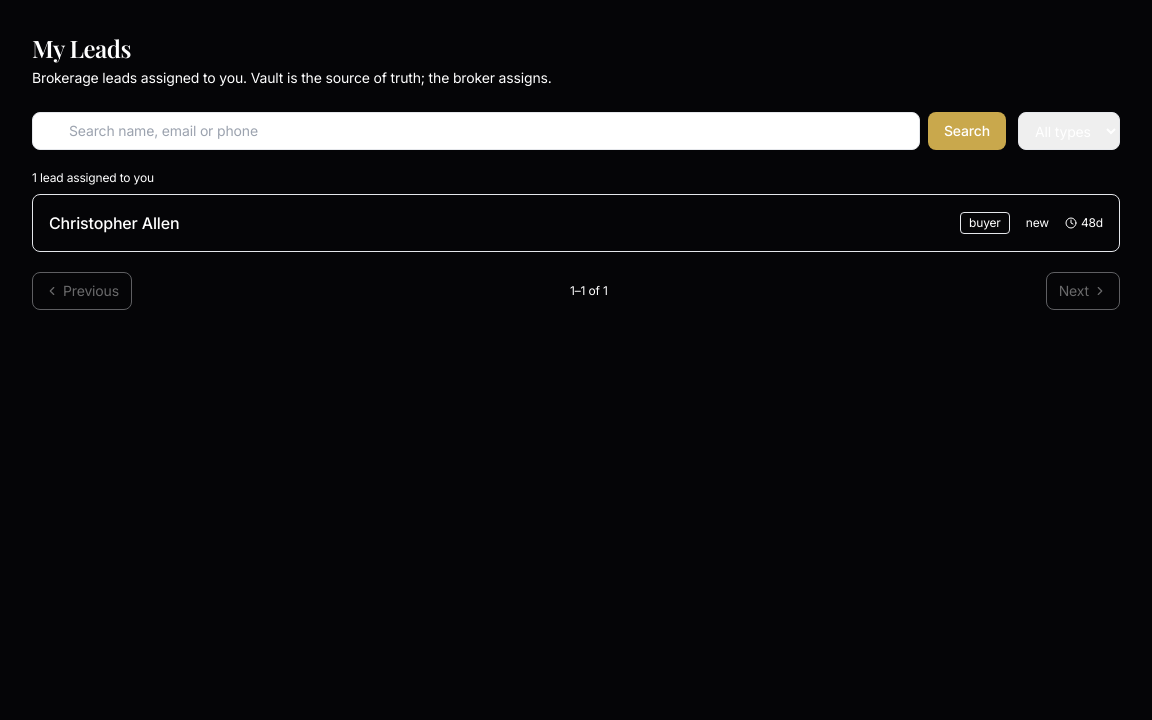
[P81A-U] the agent opens My Leads › [P81A-U5] opening a lead shows contact details and follow-up history
Step 1. Click the text "Christopher Allen" → (114, 223), box 49,213 -> 179,233
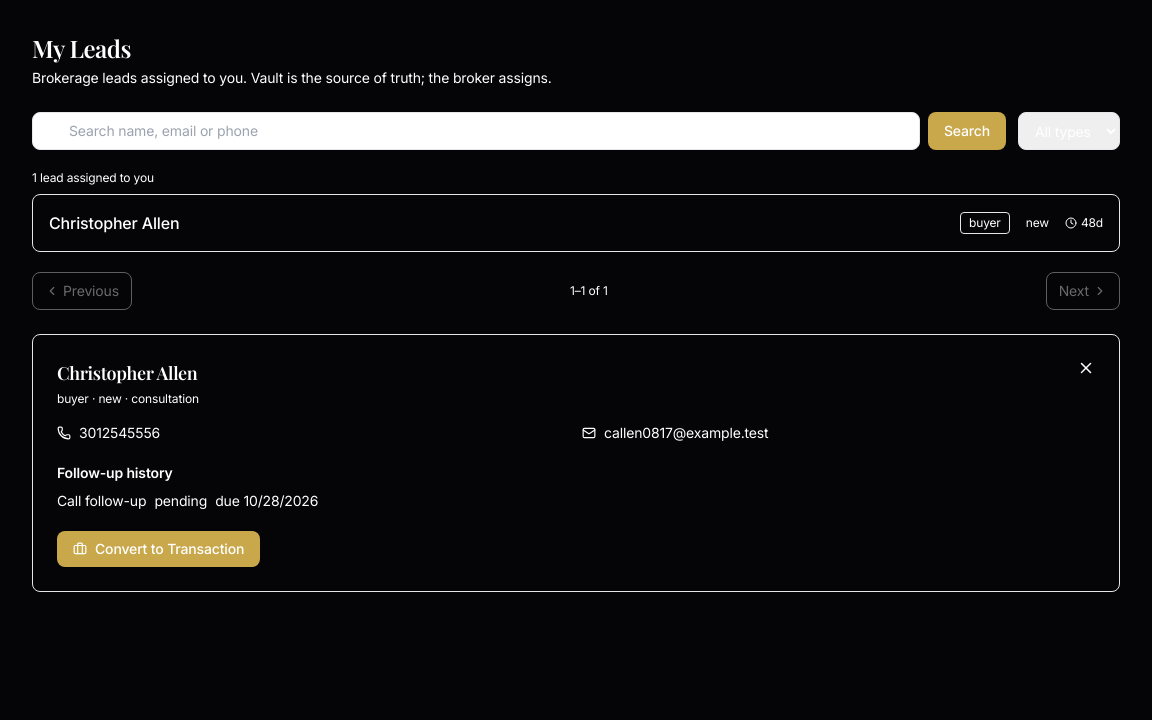
Check: the text "3012545556" is shown, box 79,423 -> 160,443
Check: the text "callen0817@example.test" is shown, box 604,423 -> 768,443
Check: the text "Call follow-up" is shown, box 57,491 -> 146,511
